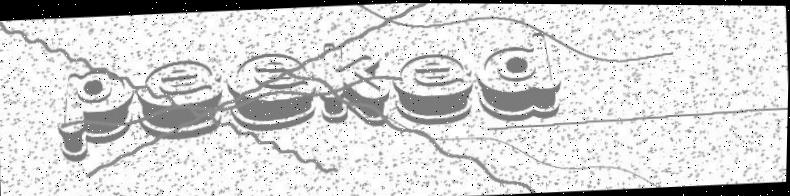d: (475, 30, 565, 121)
e: (225, 51, 320, 133), (135, 58, 225, 140), (392, 51, 476, 126)
k: (318, 39, 392, 128)
p: (55, 68, 137, 161)
